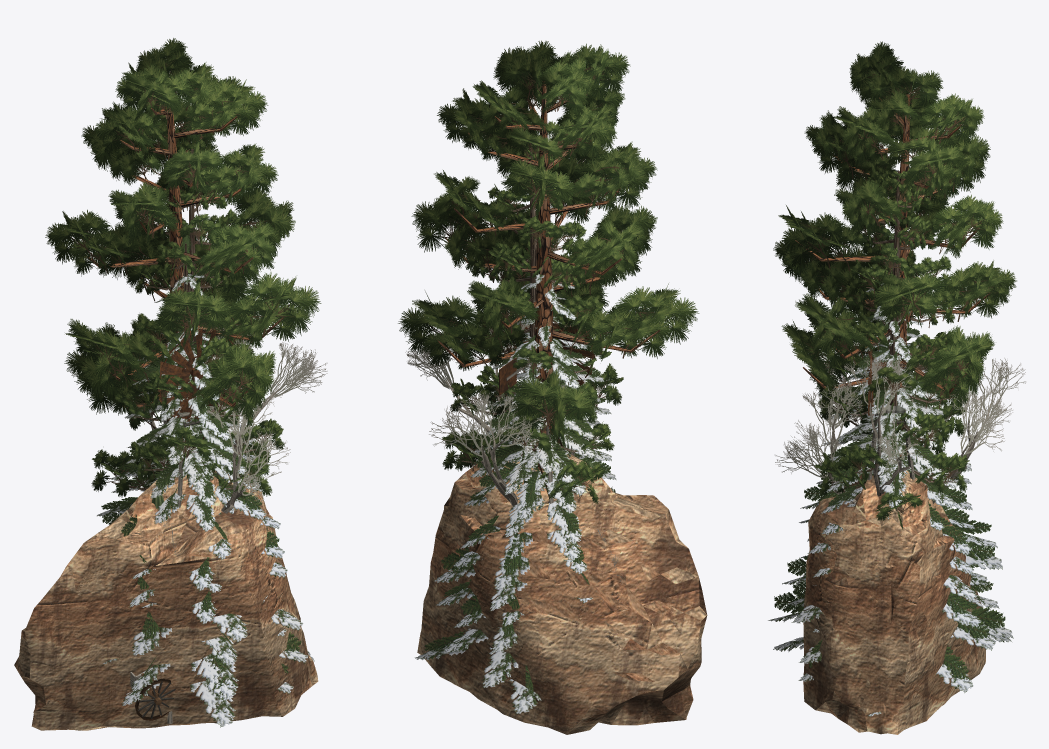
File: props.glb
3 renders of one model, left to right at view 1: azimuth 30°, elevation 25°; view 2: azimuth 150°, elevation 25°; view 3: azimuth 270°, elevation 25°, orthographic. The views are drawn at different scales.
Parts seen in each view (by area): view 1: Pine_A, CliffChunk, Pine_Snow, Pine_B, DeadTree, Windmill_Fan, Wagon_Wreck, Windmill; view 2: Pine_A, CliffChunk, Pine_Snow, Pine_B, DeadTree, Windmill, Windmill_Fan; view 3: Pine_A, CliffChunk, Pine_Snow, Pine_B, DeadTree, Windmill.
Boxes of the visible parts, x1,y1,x2,y2 form: Pine_A: [45, 38, 321, 421]; CliffChunk: [14, 470, 318, 730]; Pine_Snow: [97, 225, 314, 727]; Pine_B: [91, 139, 284, 499]; DeadTree: [70, 327, 327, 555]; Windmill_Fan: [157, 328, 238, 421]; Wagon_Wreck: [130, 672, 175, 720]; Windmill: [146, 327, 220, 723]; Pine_A: [398, 40, 699, 477]; CliffChunk: [417, 454, 707, 734]; Pine_Snow: [415, 241, 616, 714]; Pine_B: [442, 142, 623, 504]; DeadTree: [405, 312, 622, 583]; Windmill: [499, 357, 574, 503]; Windmill_Fan: [513, 301, 595, 385]; Pine_A: [773, 41, 1016, 473]; CliffChunk: [803, 470, 985, 734]; Pine_Snow: [768, 233, 1013, 717]; Pine_B: [814, 166, 969, 529]; DeadTree: [775, 353, 1025, 504]; Windmill: [867, 361, 953, 480].
Size of the model in its own units: 9.1 by 18.95 by 7.65.
Materials: 2 (2 with a texture image).
